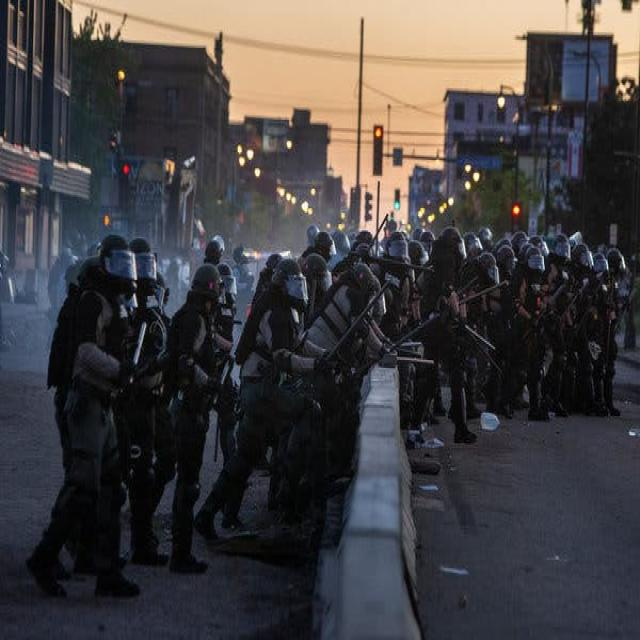police: (307, 224, 498, 441), (38, 218, 138, 604), (139, 218, 234, 584), (216, 230, 333, 513), (499, 220, 628, 422)
